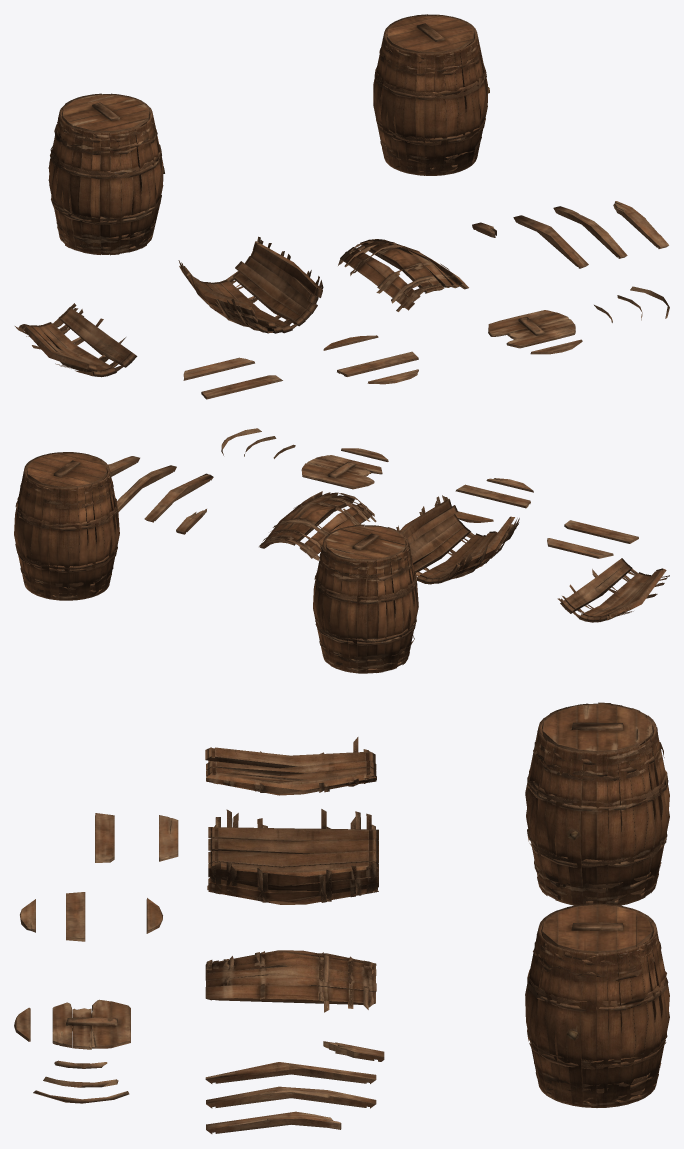
The model's file is wooden_barrels_01.gltf.
3 renders of one model, top to bottom at view 1: azimuth 30°, elevation 25°; view 2: azimuth 150°, elevation 25°; view 3: azimuth 270°, elevation 25°, orthographic. The views are drawn at different scales.
Visible parts, largest first — view 1: wooden_barrels_01_barrel01, wooden_barrels_01_barrel02, wooden_barrels_01_piece01, wooden_barrels_01_piece03, wooden_barrels_01_piece02, wooden_barrels_01_piece08, wooden_barrels_01_piece04, wooden_barrels_01_piece05, wooden_barrels_01_piece06, wooden_barrels_01_piece11, wooden_barrels_01_piece14, wooden_barrels_01_piece13; view 2: wooden_barrels_01_barrel02, wooden_barrels_01_barrel01, wooden_barrels_01_piece01, wooden_barrels_01_piece03, wooden_barrels_01_piece02, wooden_barrels_01_piece08, wooden_barrels_01_piece04, wooden_barrels_01_piece14, wooden_barrels_01_piece05, wooden_barrels_01_piece11, wooden_barrels_01_piece13; view 3: wooden_barrels_01_barrel01, wooden_barrels_01_barrel02, wooden_barrels_01_piece01, wooden_barrels_01_piece03, wooden_barrels_01_piece02, wooden_barrels_01_piece08, wooden_barrels_01_piece05, wooden_barrels_01_piece04, wooden_barrels_01_piece06, wooden_barrels_01_piece11, wooden_barrels_01_piece14, wooden_barrels_01_piece13 (+1 smaller).
Boxes of the visible parts, x1,y1,x2,y2 form: wooden_barrels_01_barrel01: (373,14,489,175); wooden_barrels_01_barrel02: (48,93,164,255); wooden_barrels_01_piece01: (178,236,323,333); wooden_barrels_01_piece03: (338,239,468,311); wooden_barrels_01_piece02: (15,303,137,377); wooden_barrels_01_piece08: (488,310,575,348); wooden_barrels_01_piece04: (513,215,588,268); wooden_barrels_01_piece05: (553,206,627,258); wooden_barrels_01_piece06: (613,201,668,248); wooden_barrels_01_piece11: (337,351,418,376); wooden_barrels_01_piece14: (201,375,282,399); wooden_barrels_01_piece13: (183,357,254,380); wooden_barrels_01_barrel02: (313,524,418,673); wooden_barrels_01_barrel01: (14,452,119,600); wooden_barrels_01_piece01: (396,495,519,584); wooden_barrels_01_piece03: (259,491,376,560); wooden_barrels_01_piece02: (557,558,669,622); wooden_barrels_01_piece08: (301,455,382,489); wooden_barrels_01_piece04: (144,473,213,522); wooden_barrels_01_piece14: (564,520,638,543); wooden_barrels_01_piece05: (117,465,176,512); wooden_barrels_01_piece11: (455,484,530,508); wooden_barrels_01_piece13: (547,538,613,558); wooden_barrels_01_barrel01: (525,903,669,1107); wooden_barrels_01_barrel02: (525,702,669,905); wooden_barrels_01_piece01: (207,809,378,904); wooden_barrels_01_piece03: (205,950,376,1012); wooden_barrels_01_piece02: (205,737,376,795); wooden_barrels_01_piece08: (52,999,130,1049); wooden_barrels_01_piece05: (206,1086,376,1108); wooden_barrels_01_piece04: (205,1062,376,1083); wooden_barrels_01_piece06: (206,1111,341,1133); wooden_barrels_01_piece11: (66,892,85,941); wooden_barrels_01_piece14: (95,813,114,862); wooden_barrels_01_piece13: (159,815,178,861).
Size of the model in its own units: 4.44 by 0.9322 by 3.34.
3 materials, 3 textured.
